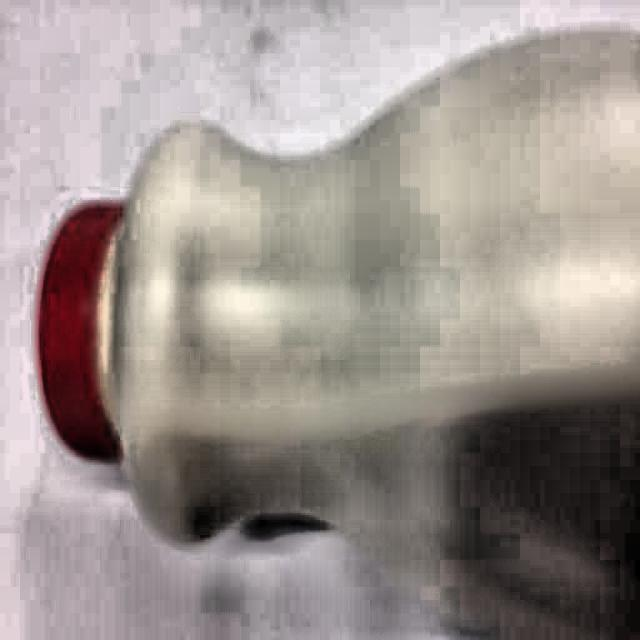plastic: (40, 115, 640, 602)
